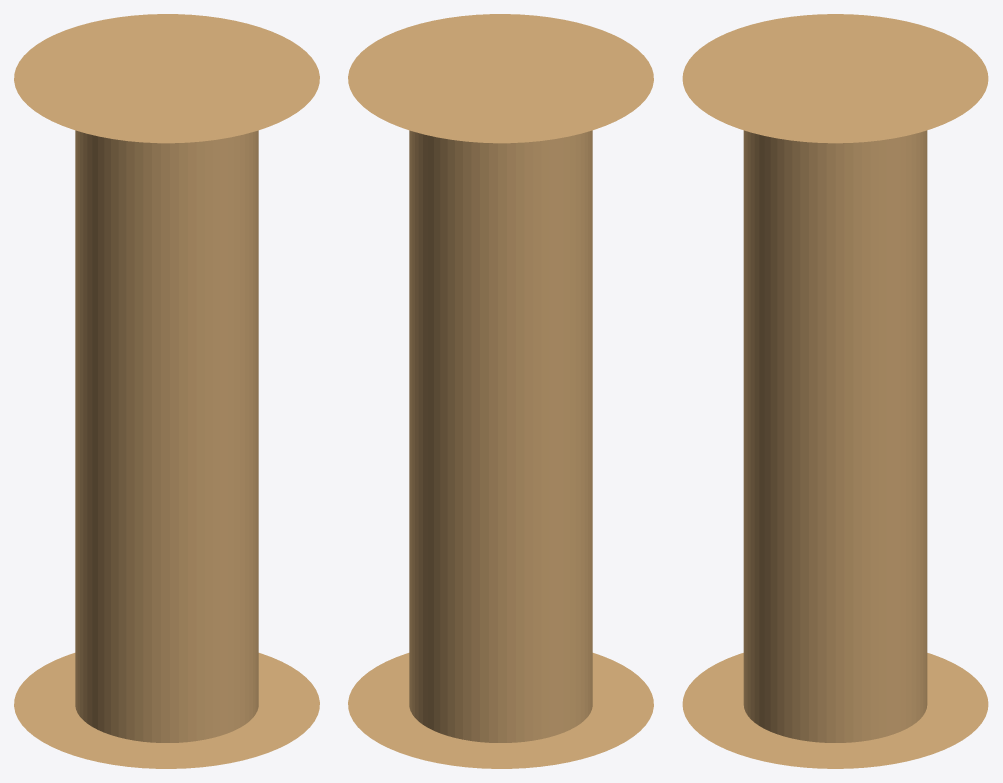
File: board.glb
The picture shows the model from 3 angles, left to right: view 1: azimuth 30°, elevation 25°; view 2: azimuth 150°, elevation 25°; view 3: azimuth 270°, elevation 25°; orthographic projection.
Parts seen in each view (by area): view 1: Unified_Via_0; view 2: Unified_Via_0; view 3: Unified_Via_0.
Boxes of the visible parts, x1=… form: Unified_Via_0: x1=14, y1=14, x2=319, y2=768; Unified_Via_0: x1=348, y1=14, x2=653, y2=768; Unified_Via_0: x1=682, y1=14, x2=988, y2=768.
Size of the model in its own units: 0.0005 by 0.00113 by 0.0005.
